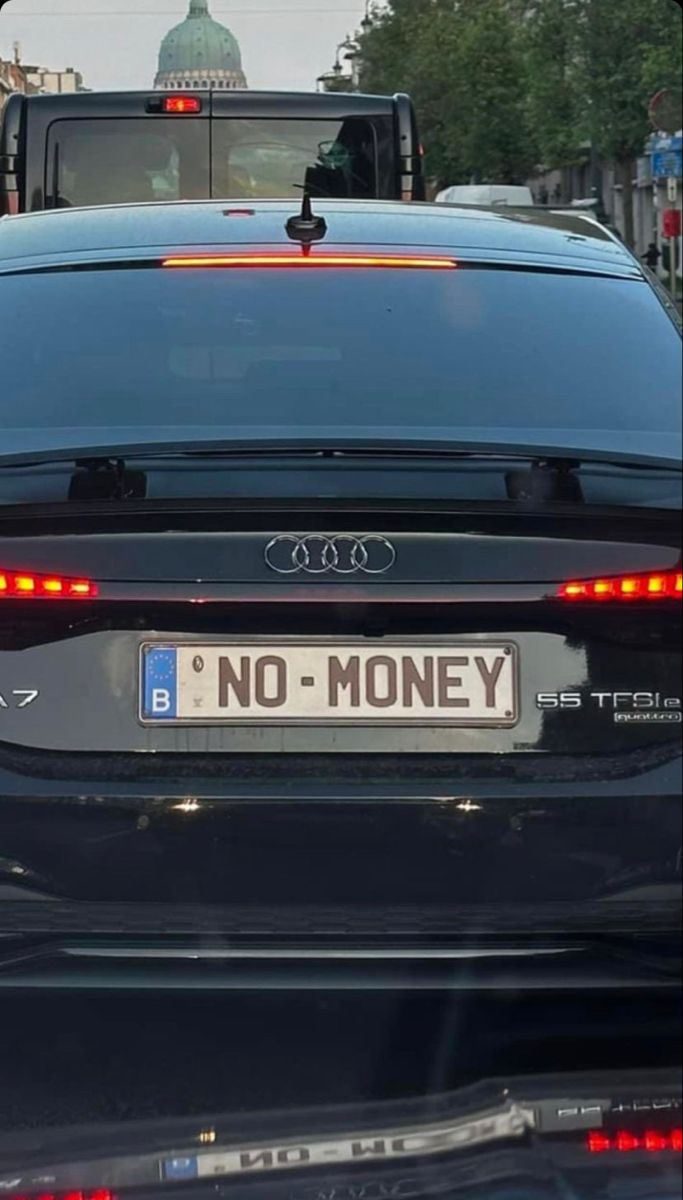plate: (138, 645, 520, 733)
